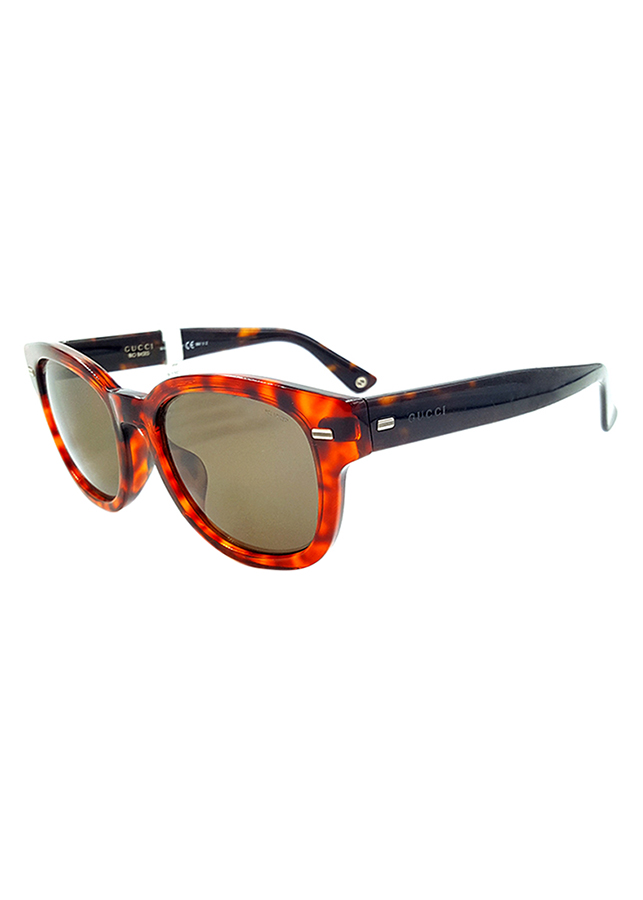Gucci: (403, 400, 453, 428), (116, 339, 158, 357)
